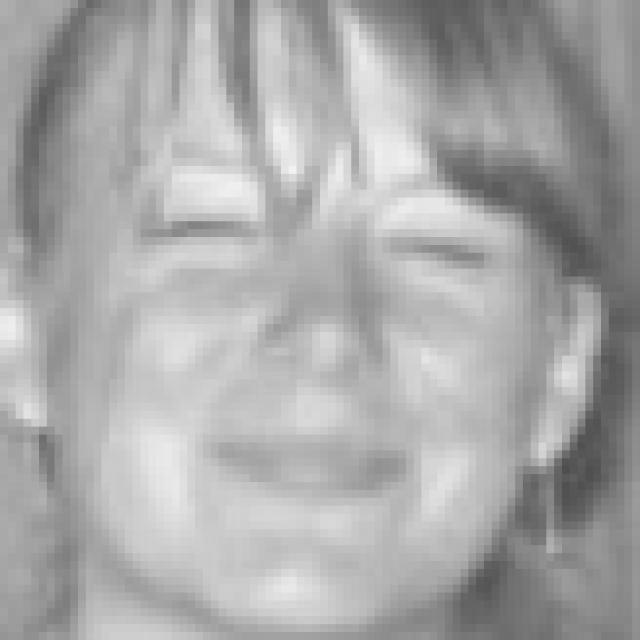real: (43, 0, 542, 640), (116, 166, 505, 288)
